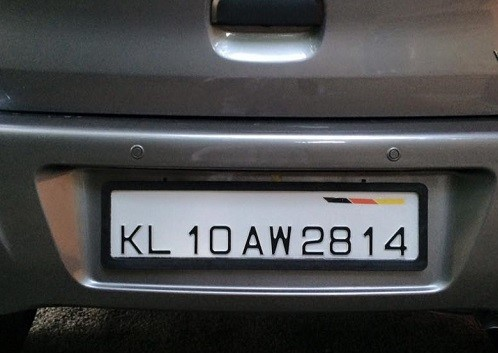KL10AW2814: (108, 186, 421, 262)
